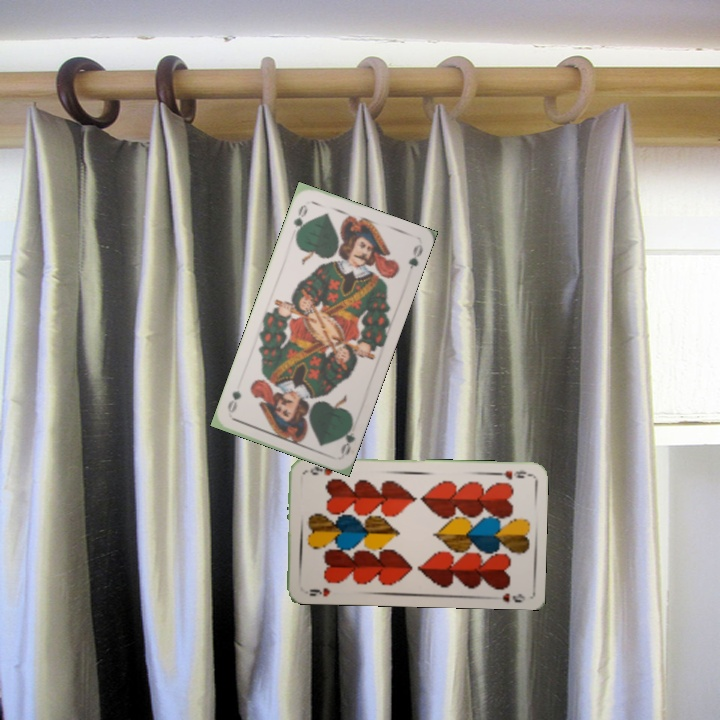GO: (337, 417, 358, 458), (289, 200, 310, 239)
H9: (492, 466, 532, 482), (306, 584, 332, 599)
